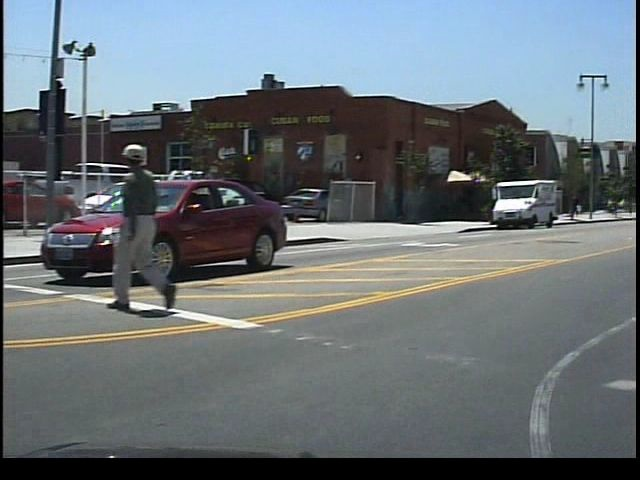person: (112, 142, 196, 314)
